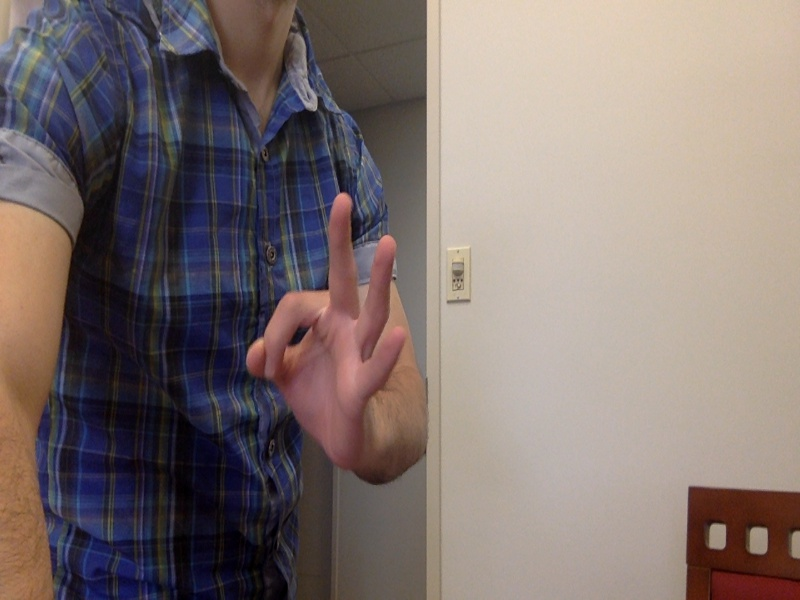3-hand: (268, 198, 406, 477)
